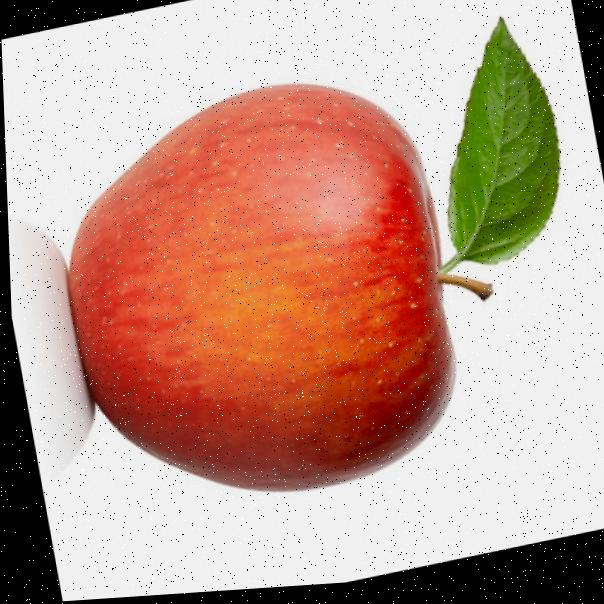HEALTHY: (12, 27, 514, 576)
